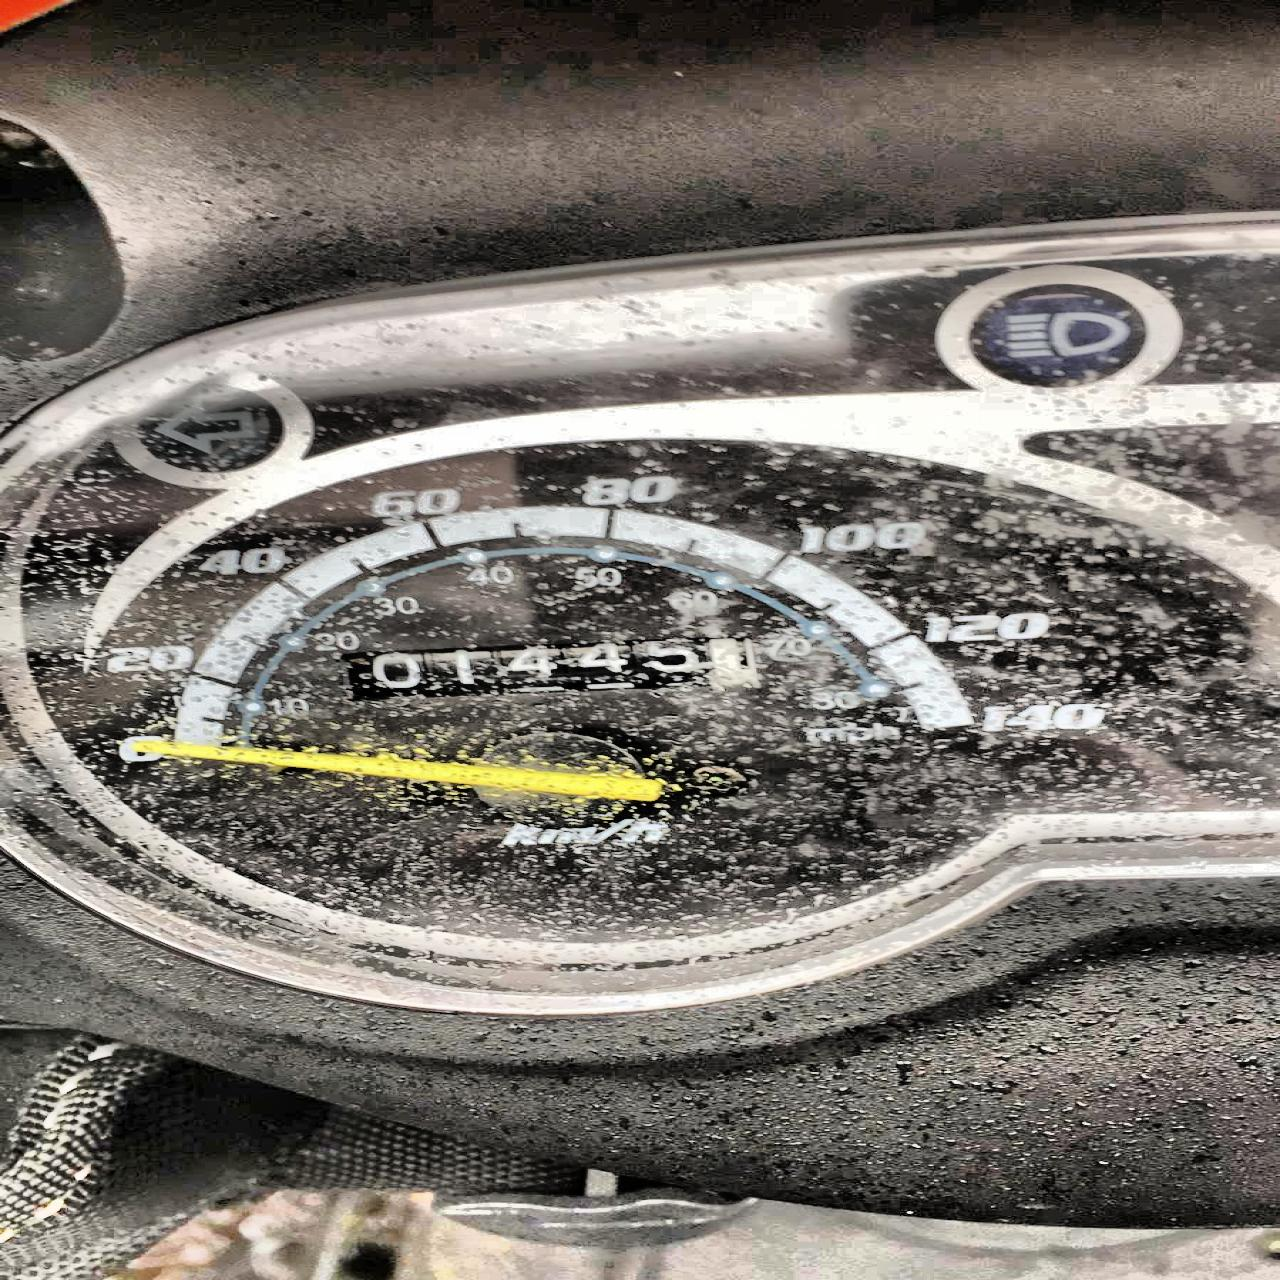0: (368, 652, 418, 689), (339, 632, 359, 648)
1: (451, 648, 474, 685), (731, 636, 750, 670)
4: (576, 639, 628, 672), (505, 644, 557, 676)
5: (645, 636, 696, 672)
odometer: (338, 634, 765, 706)
